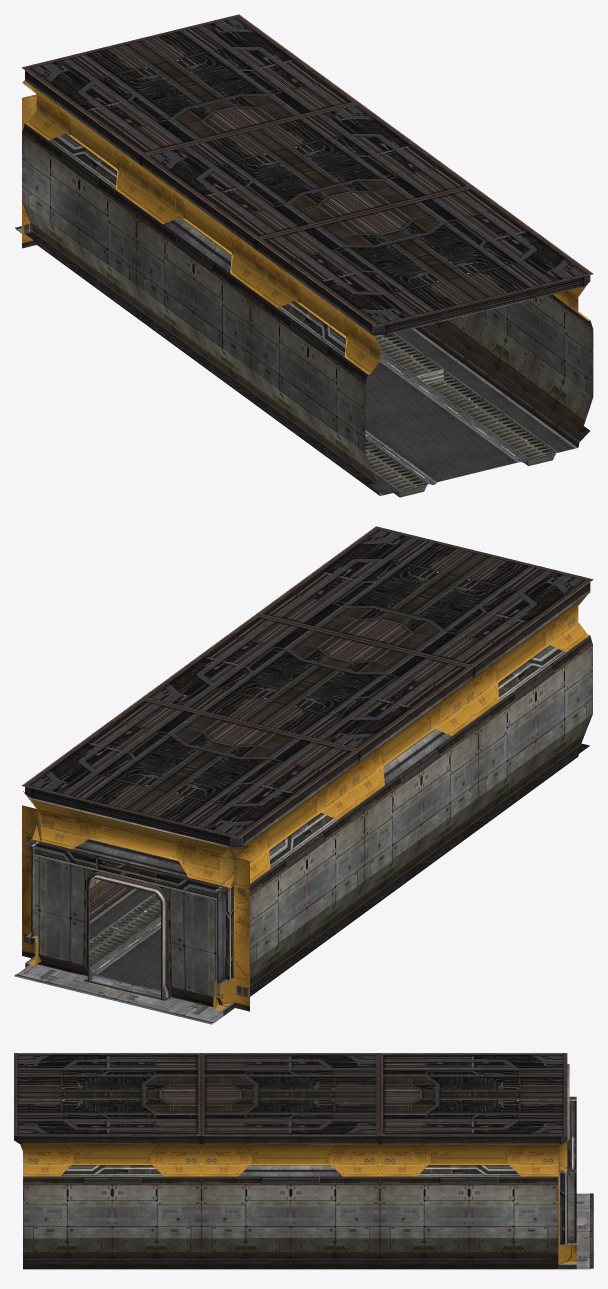
File: ARC_Corridor_16x5m_1DoorConnect.FBX
The picture shows the model from 3 angles, top to bottom: view 1: azimuth 30°, elevation 25°; view 2: azimuth 150°, elevation 25°; view 3: azimuth 270°, elevation 25°; orthographic projection. The views are drawn at different scales.
Visible parts, largest first — view 1: ARC_Corridor_16x5m_Walls, ARC_Corridor_16x5m_Floor; view 2: ARC_Corridor_16x5m_Walls, ARC_Corridor_16x5m_Floor; view 3: ARC_Corridor_16x5m_Walls, ARC_Corridor_16x5m_Floor.
Boxes of the visible parts, x1,y1,x2,y2 form: ARC_Corridor_16x5m_Walls: (21, 14, 593, 495); ARC_Corridor_16x5m_Floor: (15, 226, 577, 497); ARC_Corridor_16x5m_Walls: (21, 526, 593, 1016); ARC_Corridor_16x5m_Floor: (14, 888, 223, 1024); ARC_Corridor_16x5m_Walls: (14, 1053, 576, 1269); ARC_Corridor_16x5m_Floor: (576, 1193, 593, 1269).
Bounding box in the file's own units: 575 × 445 × 1625.
